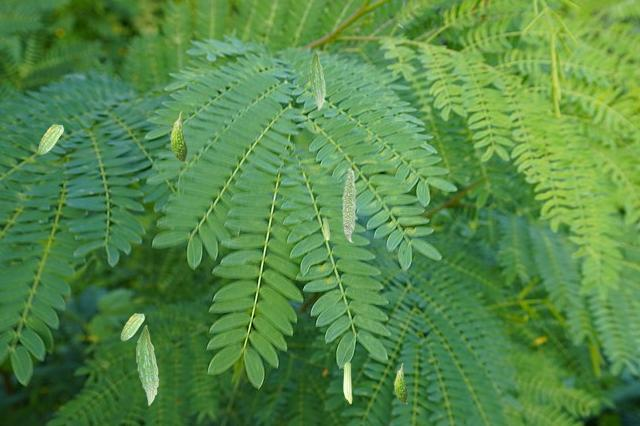ampalaya: (135, 324, 159, 406), (341, 167, 356, 242), (308, 50, 326, 111), (169, 111, 188, 163), (37, 124, 64, 154), (120, 312, 145, 341), (393, 362, 408, 404), (343, 359, 352, 404), (322, 216, 330, 240)
